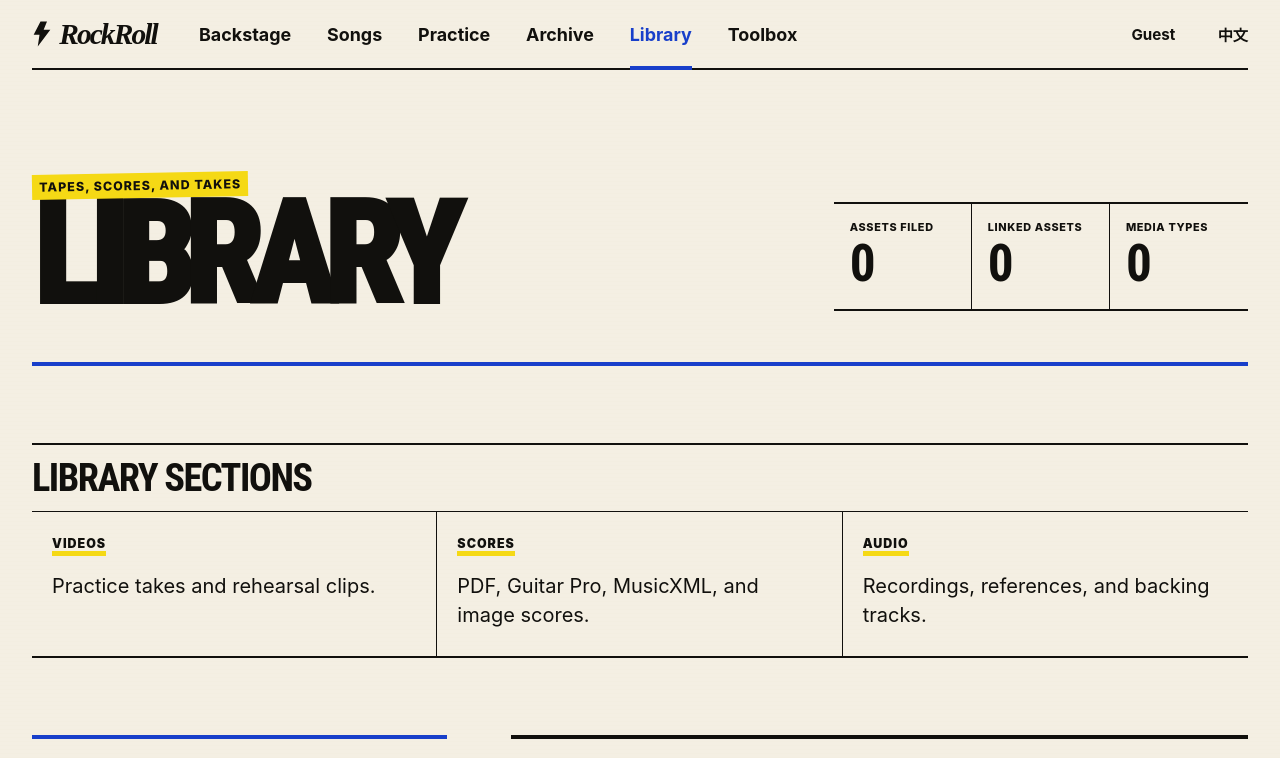
Scenario: App › updates the rendered page when hash navigation changes
Check: the heading "Library" is shown, box [32,201,451,311]
Click the link "Practice" at (454, 34), box [418,0,490,68]
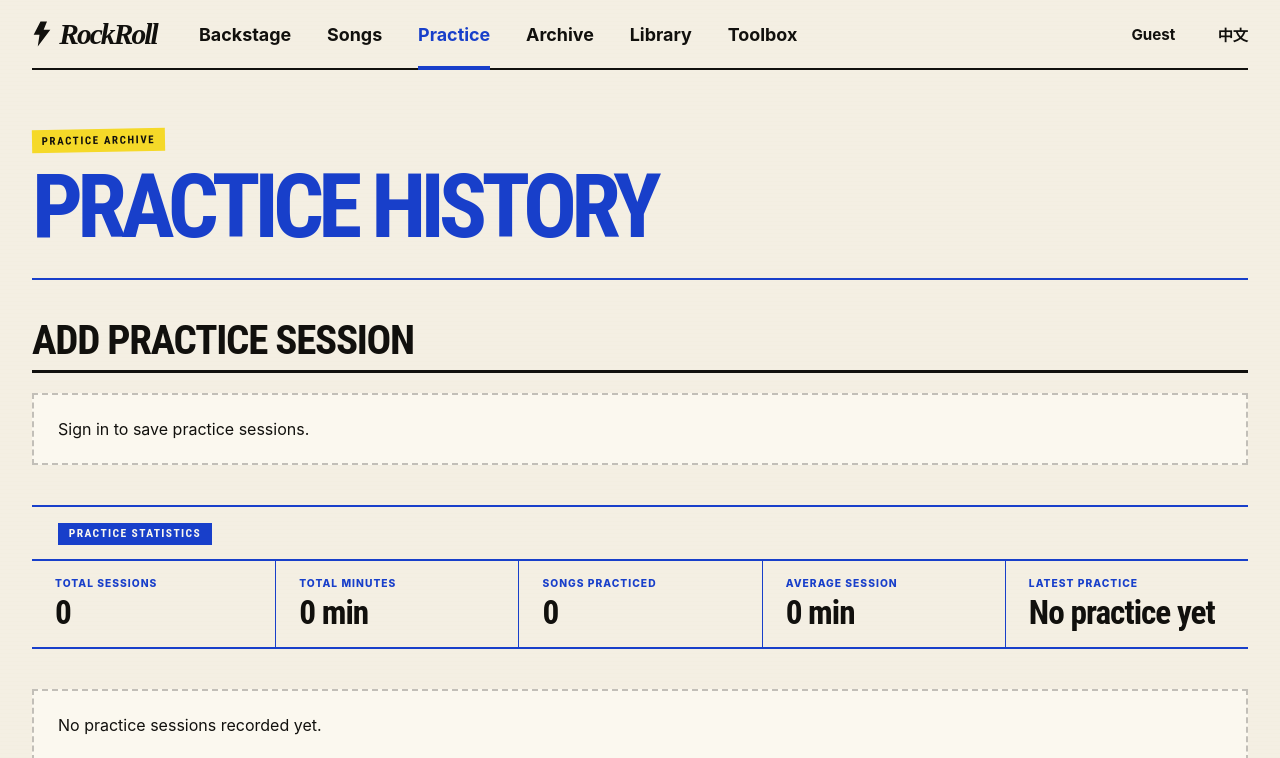
Check: the heading "Practice History" is shown, box [32,169,656,246]
